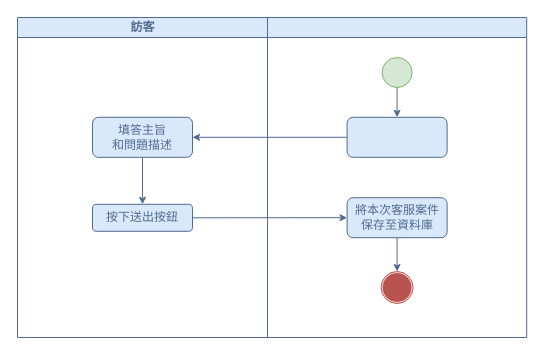
Some shapes in this 545 by 355 pixel diagram are drawn without their labels. The shapes that lost their labels are listed below. From the top down, each one's box as (x1, y1, x2, y2) in pixels, then its label:
(346, 116, 447, 157): 顯示聯繫 客服介面
(266, 16, 527, 338): 系統
